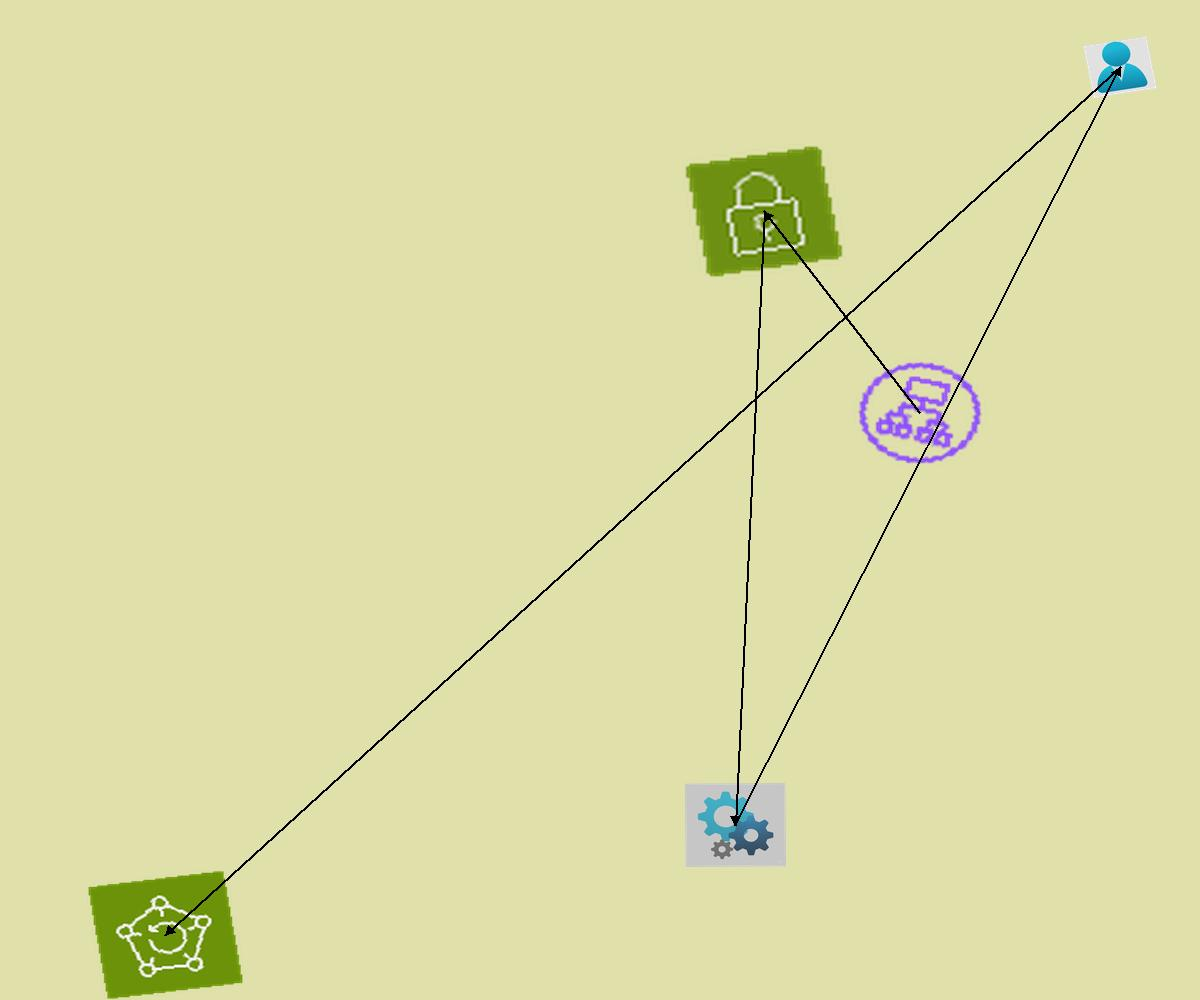AWS-Backup: (87, 870, 244, 1000)
AWS-Public-subnet: (683, 144, 845, 279)
AWS-Res_Elastic-Load-Balancing_Application-Load-Balancer: (838, 345, 1002, 481)
Azure_api: (685, 783, 786, 867)
Azure_users: (1083, 36, 1157, 98)
